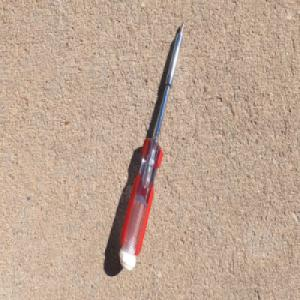Screwdriver: (118, 18, 186, 272)
